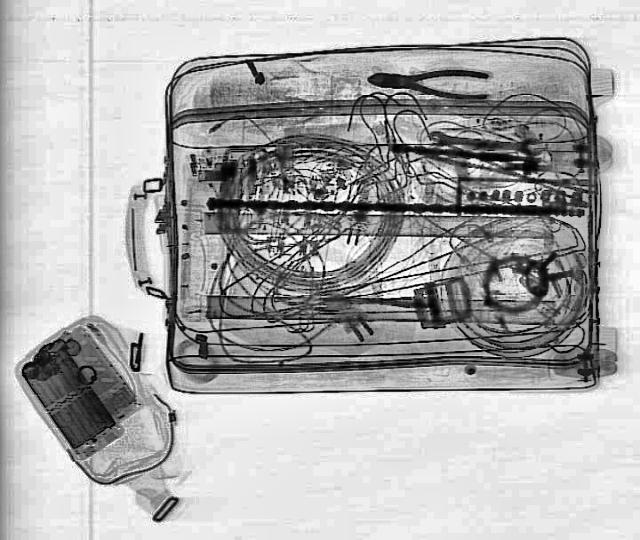Pliers: (366, 62, 488, 98)
Wrench: (426, 126, 544, 156)
